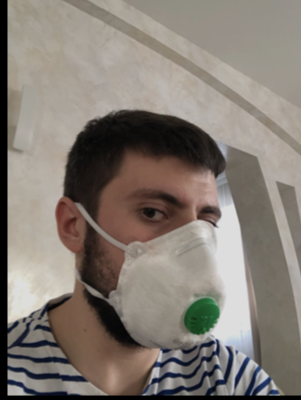with_mask: (96, 175, 228, 351)
